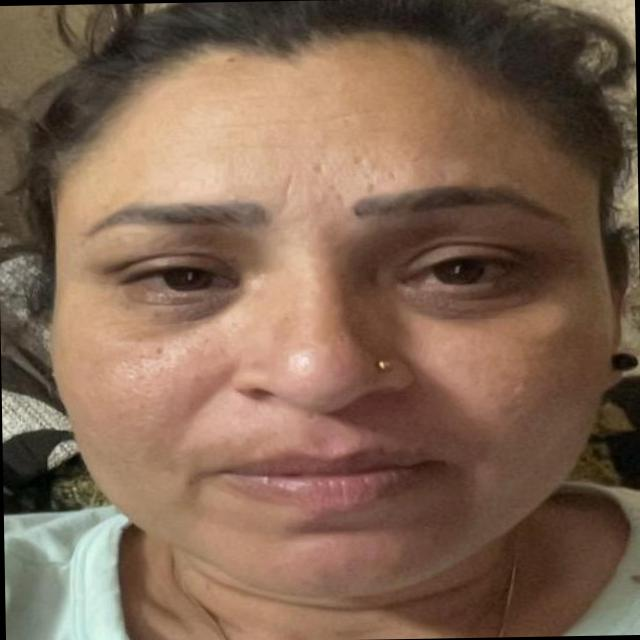redness: (168, 332, 241, 429), (287, 337, 361, 399), (300, 405, 377, 454)
